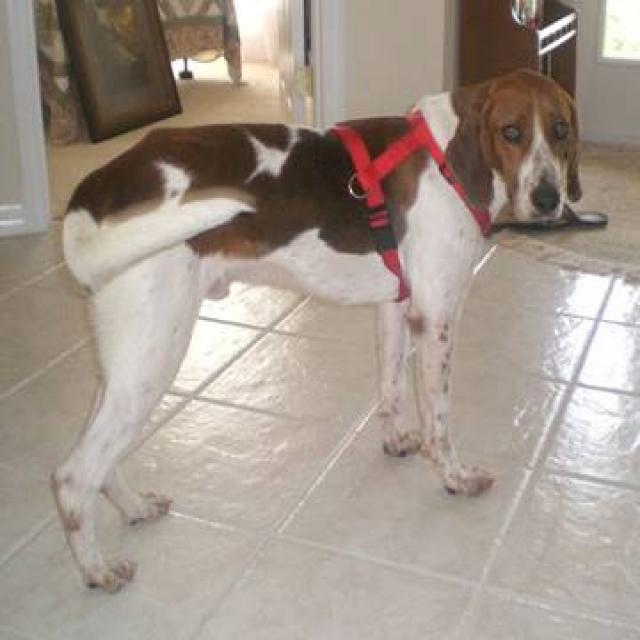dog: (48, 67, 606, 594)
